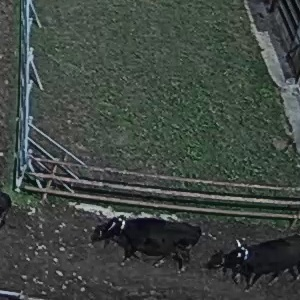cow: (87, 192, 199, 273), (212, 234, 298, 279)
